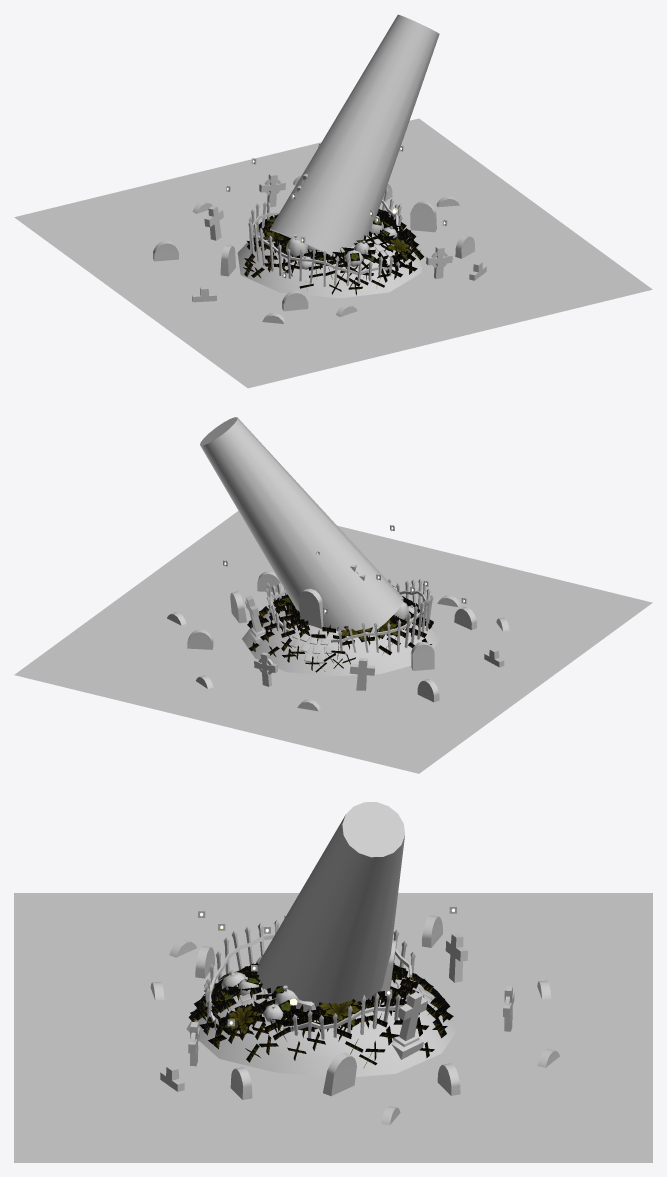
File: HalloweenOptimized.fbx
3 views of the same model, one above another, from view 1: azimuth 30°, elevation 25°; view 2: azimuth 150°, elevation 25°; view 3: azimuth 270°, elevation 25° (orthographic). The views are drawn at different scales.
Visible parts, largest first — view 1: Transparent, TransparentNoLight, Opaque, Foliage; view 2: Transparent, TransparentNoLight, Opaque, Foliage; view 3: Transparent, TransparentNoLight, Opaque, Foliage.
Boxes of the visible parts, x1,y1,x2,y2 form: Transparent: [14, 118, 652, 388]; TransparentNoLight: [226, 14, 447, 278]; Opaque: [227, 147, 445, 298]; Foliage: [243, 209, 424, 295]; Transparent: [14, 511, 652, 773]; TransparentNoLight: [200, 417, 466, 636]; Opaque: [224, 527, 464, 676]; Foliage: [247, 585, 433, 672]; Transparent: [14, 893, 652, 1162]; TransparentNoLight: [198, 802, 456, 1026]; Opaque: [186, 908, 458, 1077]; Foliage: [188, 963, 453, 1067].
Size of what is drawn, in the model's own units: 10.12 by 5.25 by 10.12.
